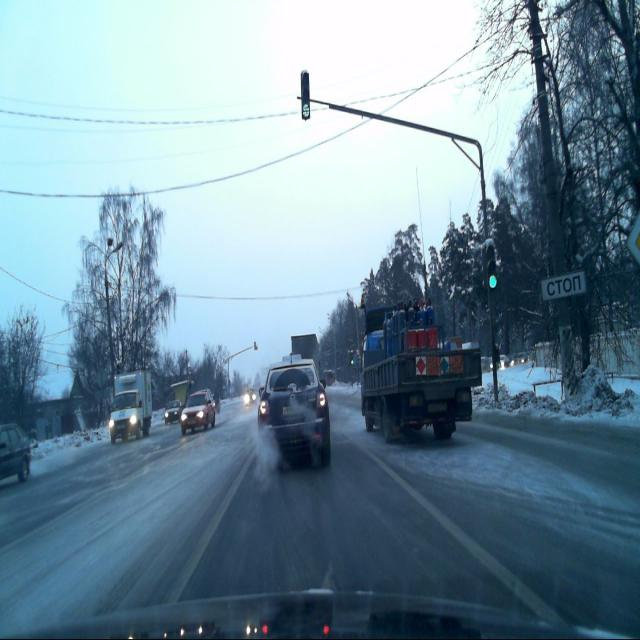road sign: (540, 271, 585, 301)
